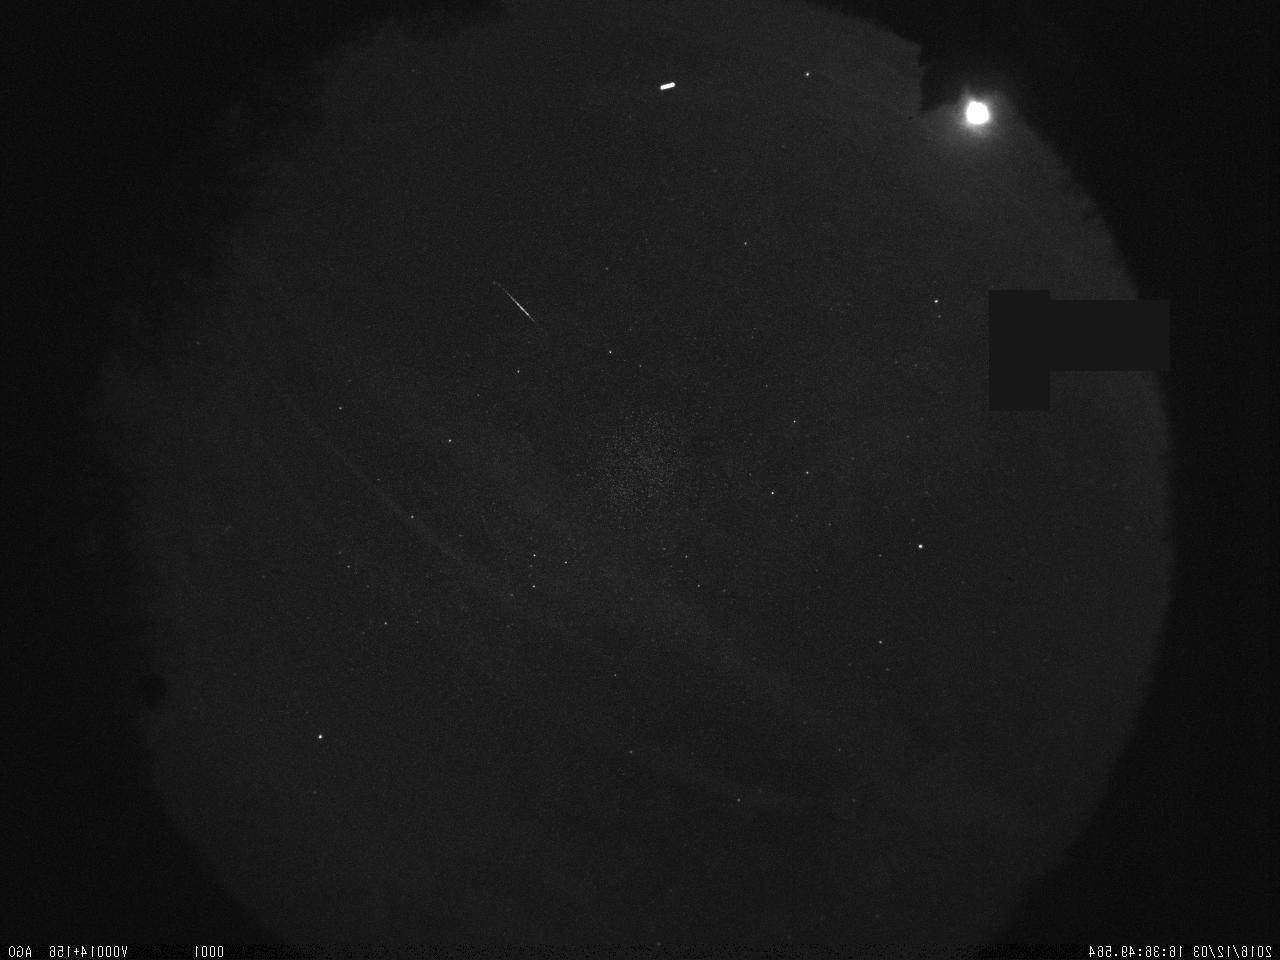meteor: (492, 278, 555, 342)
